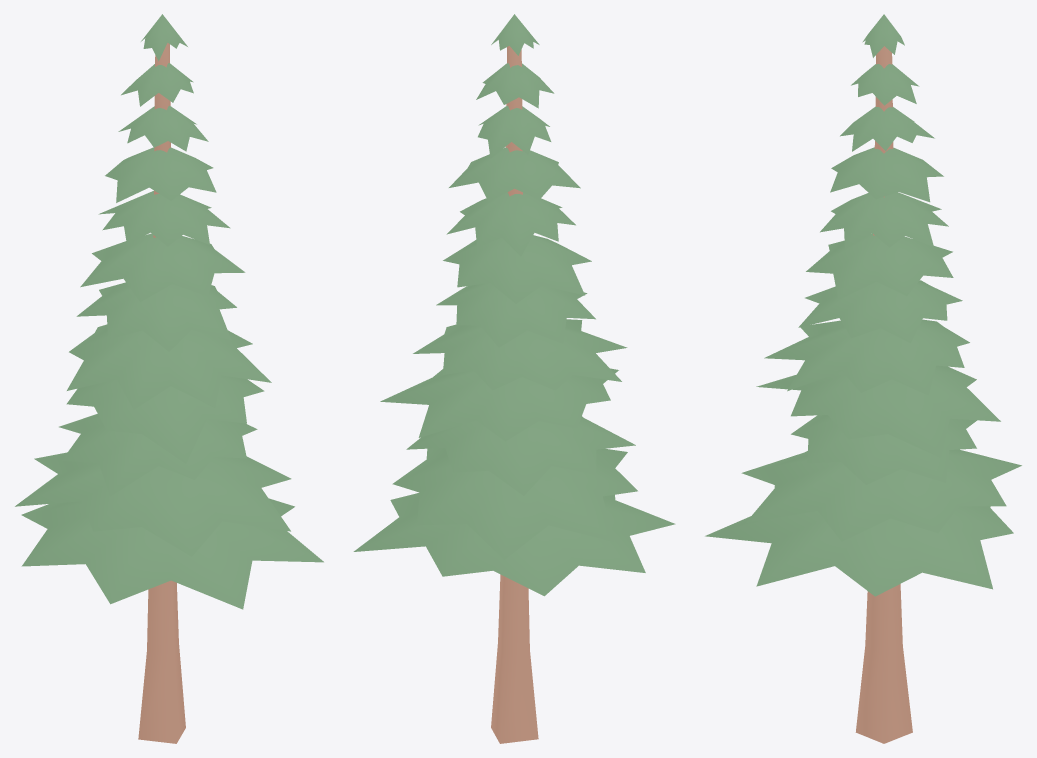
Rendered from Blender_Fir_2_Far.glb.
The picture shows the model from 3 angles, left to right: view 1: azimuth 30°, elevation 25°; view 2: azimuth 150°, elevation 25°; view 3: azimuth 270°, elevation 25°; orthographic projection.
Visible parts, largest first — view 1: Blender_Fir_2_Far; view 2: Blender_Fir_2_Far; view 3: Blender_Fir_2_Far.
Part boxes in pixels (x1,y1,x2,y2): Blender_Fir_2_Far: (15, 14, 323, 743); Blender_Fir_2_Far: (353, 14, 675, 743); Blender_Fir_2_Far: (705, 14, 1021, 743).
Size of the model in its own units: 20.83 by 54.07 by 21.7.
